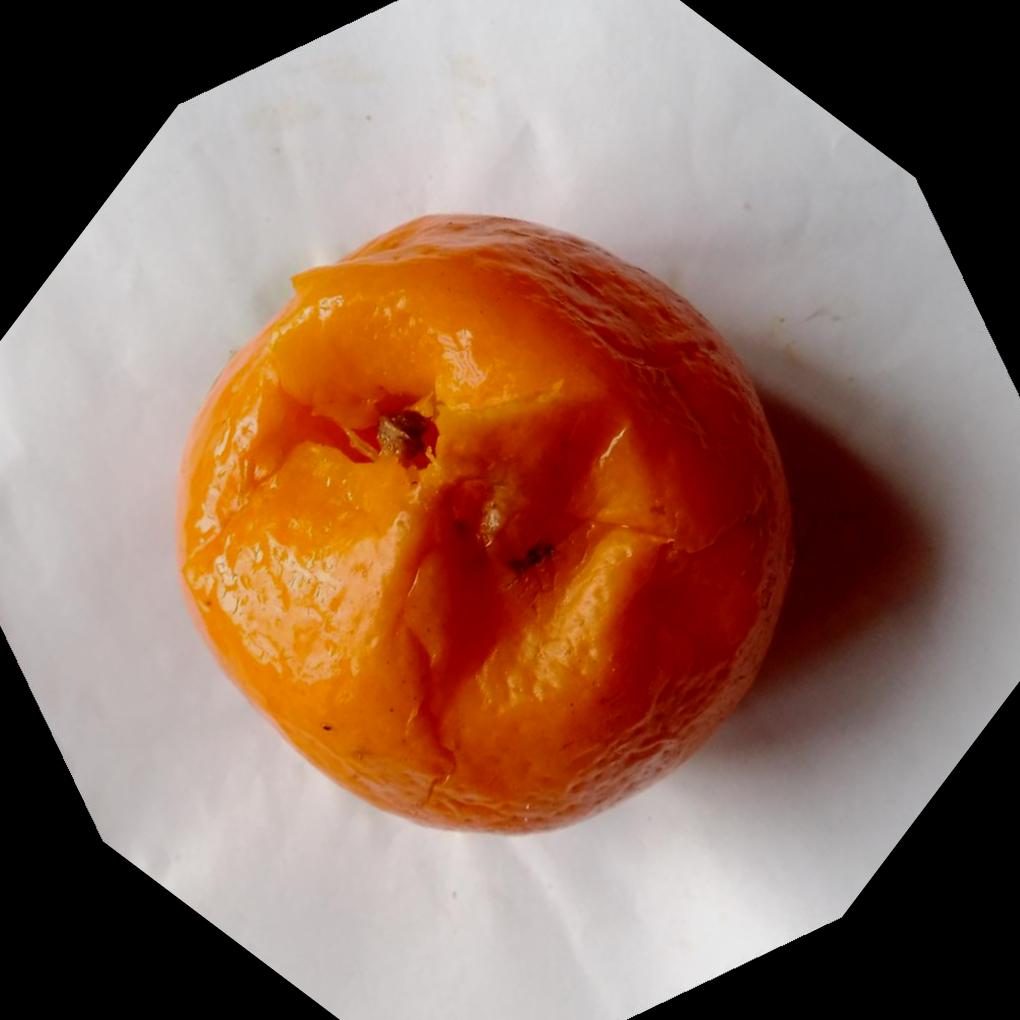FreshOrange: (175, 208, 802, 837)
